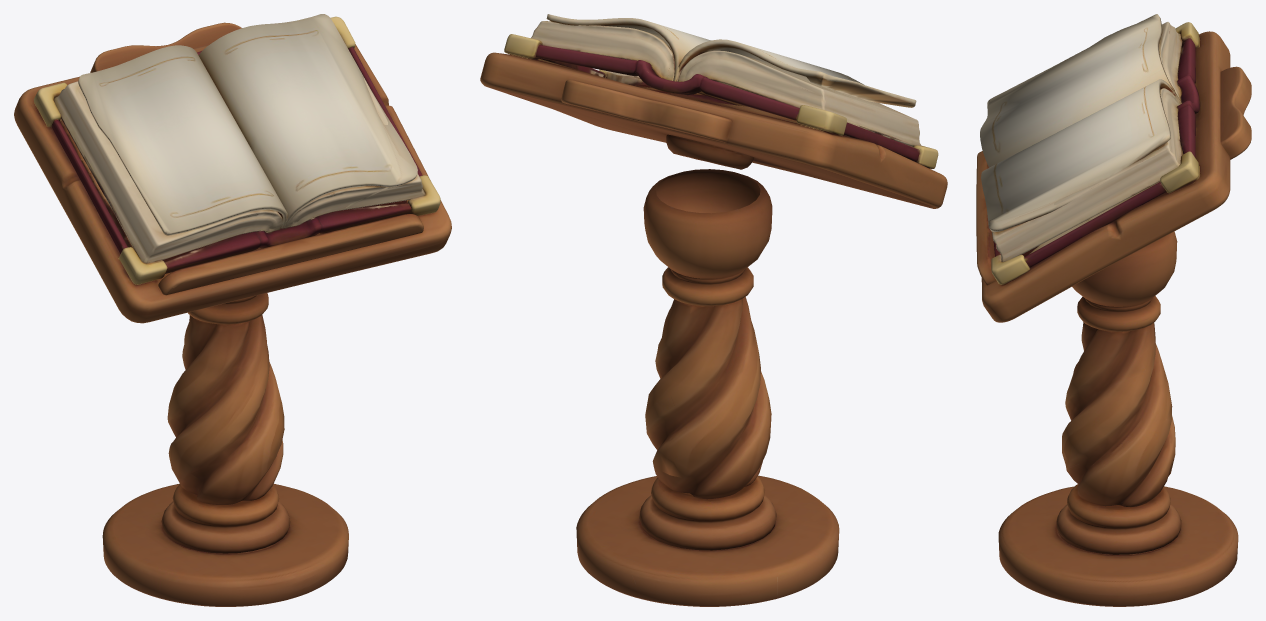
File: book_lectern.glb
The picture shows the model from 3 angles, left to right: view 1: azimuth 30°, elevation 25°; view 2: azimuth 150°, elevation 25°; view 3: azimuth 270°, elevation 25°; orthographic projection. The views are drawn at different scales.
Parts seen in each view (by area): view 1: book_lectern; view 2: book_lectern; view 3: book_lectern.
Boxes of the visible parts, x1,y1,x2,y2 form: book_lectern: (14,14,451,606); book_lectern: (480,14,947,606); book_lectern: (976,14,1251,606).
Size of the model in its own units: 1.76 by 2.6 by 1.32.
Materials: 1 (1 with a texture image).
